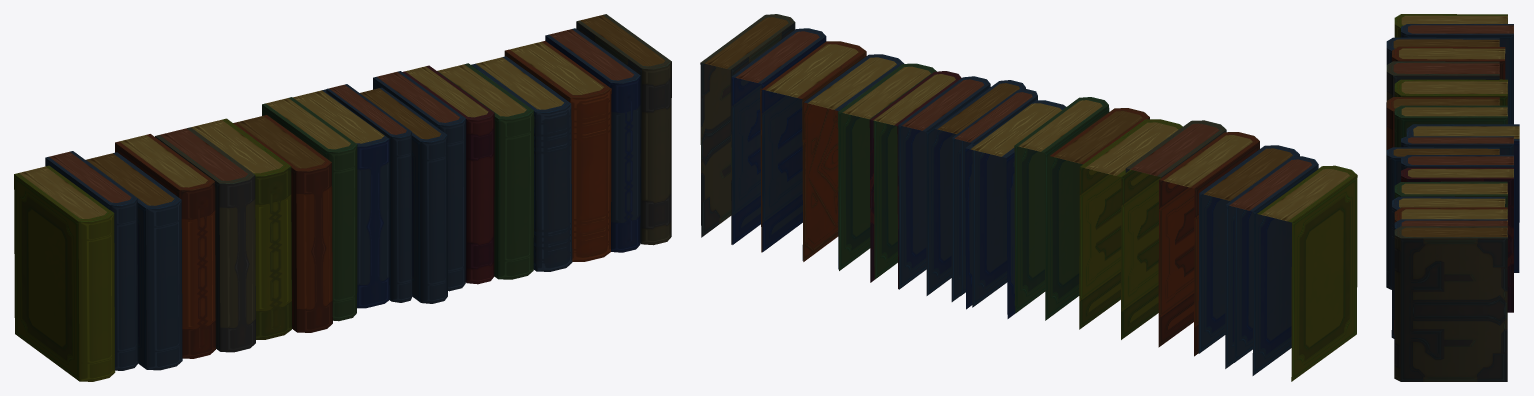
Rendered from bookgroup-medium-3.glb.
The picture shows the model from 3 angles, left to right: view 1: azimuth 30°, elevation 25°; view 2: azimuth 150°, elevation 25°; view 3: azimuth 270°, elevation 25°; orthographic projection. The views are drawn at different scales.
Parts seen in each view (by area): view 1: BookGroup_Medium_3; view 2: BookGroup_Medium_3; view 3: BookGroup_Medium_3.
Part boxes in pixels (left/top/right/bottom): BookGroup_Medium_3: left=14, top=14, right=671, bottom=381; BookGroup_Medium_3: left=700, top=14, right=1357, bottom=381; BookGroup_Medium_3: left=1386, top=14, right=1519, bottom=381.
Size of the model in its own units: 1.04 by 0.2949 by 0.2475.
1 material, 1 textured.
